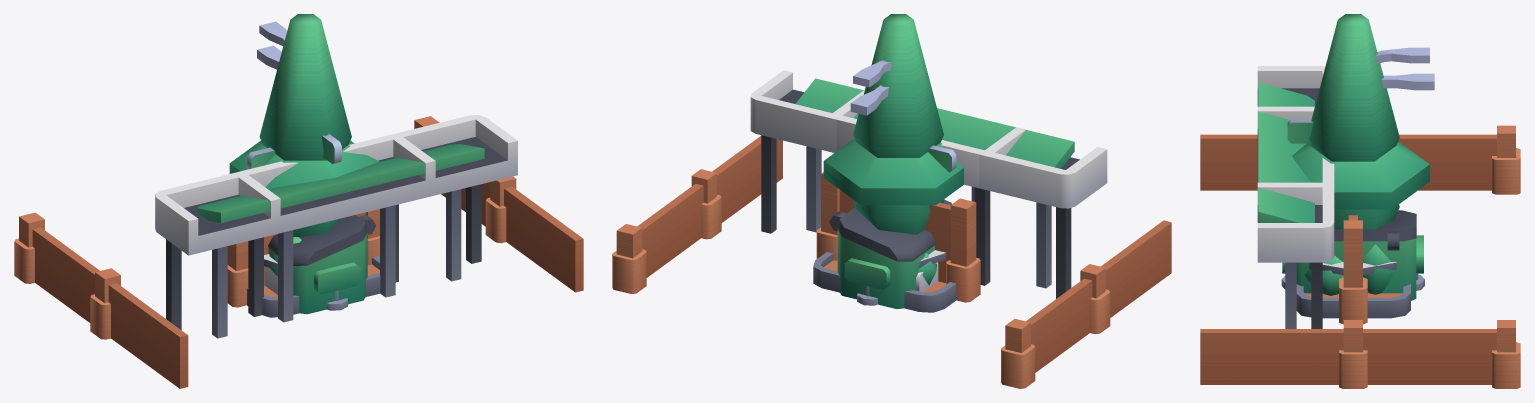
Rendered from kit-props.glb.
3 views of the same model, side by side, from view 1: azimuth 30°, elevation 25°; view 2: azimuth 150°, elevation 25°; view 3: azimuth 270°, elevation 25° (orthographic). The views are drawn at different scales.
Parts seen in each view (by area): view 1: fence-low, detail-overhang-wide, tree-large, detail-overhang, detail-awning-wide, detail-awning, dumpster, detail-parasol-a, lid-right, fence, planter, road-sign-street; view 2: fence-low, detail-overhang-wide, tree-large, detail-awning-wide, detail-parasol-a, fence, dumpster, detail-overhang, lid-left, planter, tree-small, detail-parasol-b (+3 smaller); view 3: fence-low, tree-large, detail-overhang-wide, detail-awning-wide, detail-parasol-a, planter, dumpster, fence, detail-overhang, detail-parasol-b, lid-left, tree-small (+3 smaller).
Boxes of the visible parts, box(x1,y1,x2,y2) form: fence-low: box(14, 116, 583, 388); detail-overhang-wide: box(155, 115, 517, 329); tree-large: box(259, 14, 351, 160); detail-overhang: box(237, 135, 435, 316); detail-awning-wide: box(196, 144, 484, 338); detail-awning: box(268, 160, 418, 322); dumpster: box(265, 215, 376, 314); detail-parasol-a: box(229, 140, 379, 268); lid-right: box(268, 215, 367, 265); fence: box(227, 209, 379, 307); planter: box(247, 237, 380, 317); road-sign-street: box(247, 134, 341, 169); fence-low: box(612, 136, 1171, 388); detail-overhang-wide: box(750, 70, 1107, 298); tree-large: box(853, 14, 943, 157); detail-awning-wide: box(795, 78, 1074, 288); detail-parasol-a: box(823, 139, 963, 268); fence: box(816, 172, 980, 302); dumpster: box(829, 211, 938, 308); detail-overhang: box(831, 90, 1025, 285); lid-left: box(838, 207, 935, 261); planter: box(813, 252, 956, 312); tree-small: box(853, 200, 943, 234); detail-parasol-b: box(824, 143, 963, 205); fence-low: box(1200, 125, 1520, 388); tree-large: box(1309, 14, 1399, 161); detail-overhang-wide: box(1257, 66, 1334, 328); detail-awning-wide: box(1258, 82, 1314, 328); detail-parasol-a: box(1292, 141, 1429, 275); planter: box(1296, 244, 1410, 318); dumpster: box(1282, 231, 1423, 300); fence: box(1339, 215, 1367, 324); detail-overhang: box(1257, 106, 1334, 204); detail-parasol-b: box(1334, 149, 1429, 209); lid-left: box(1363, 210, 1416, 241); tree-small: box(1334, 204, 1399, 229).
Bounding box in the file's own units: 1.28 × 0.767 × 0.8374.
Materials: 3 (3 with a texture image).
